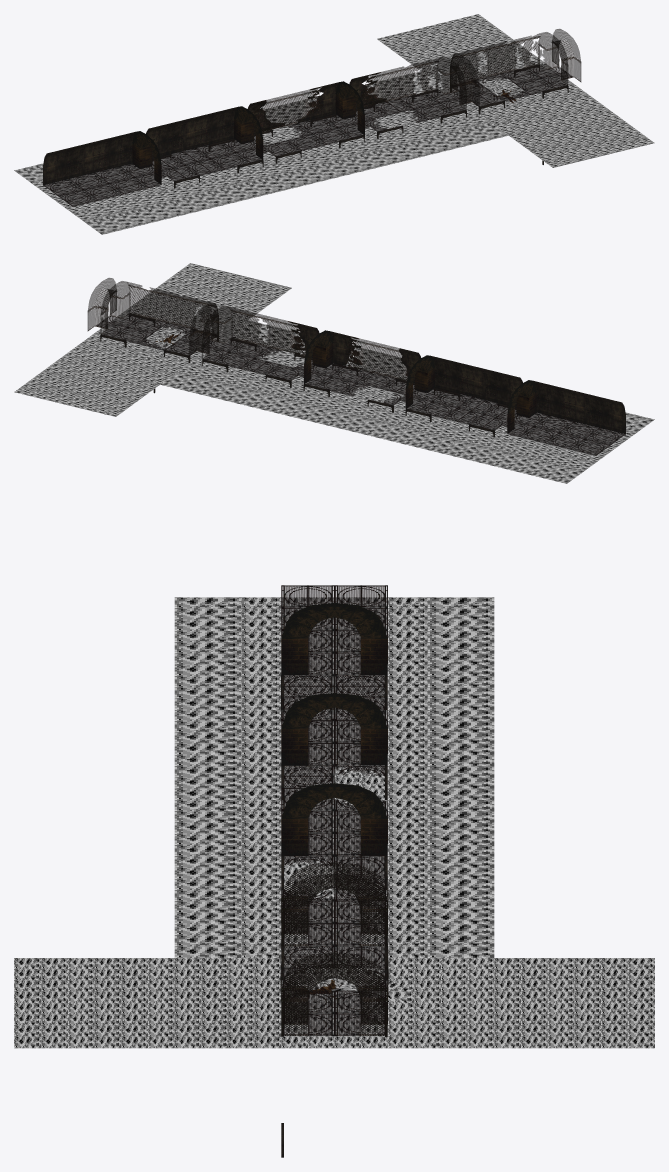
The model's file is DRU0100.glb.
3 views of the same model, one above another, from view 1: azimuth 30°, elevation 25°; view 2: azimuth 150°, elevation 25°; view 3: azimuth 270°, elevation 25° (orthographic). The views are drawn at different scales.
Parts seen in each view (by area): view 1: 02NAMI1_#6_m0, 02NAMI1__m0, 02NAMI1_#4_m0, 02NAMI1_#5_m0, 02NAMI1_#1_m0, 02NAMI1_#7_m0, 02NAMI1_#2_m0, 02NAMI3__m0, 02NAMI3_#1_m0, 02NAMI3_#4_m0, 02NAMI1_#3_m0, 02NAMI3_#3_m0 (+32 smaller); view 2: 02NAMI1_#6_m0, 02NAMI1_#4_m0, 02NAMI1__m0, 02NAMI1_#5_m0, 02NAMI1_#7_m0, 02NAMI1_#1_m0, 02NAMI1_#2_m0, 02NAMI3_#3_m0, 02NAMI3_#4_m0, 02NAMI3_#1_m0, 02NAMI1_#3_m0, 02NAMI3__m0 (+30 smaller); view 3: 02NAMI1_#6_m0, 02NAMI1_#7_m0, 02NAMI1_#2_m0, 02NAMI1_#1_m0, 02NAMI1_#4_m0, 02NAMI1_#5_m0, 02NAMI1__m0, 02NAMI1_#3_m0, 02NAMI3_#1_m0, 02NAMI3_#4_m0, 02NAMI3__m0, 02NAMI3_#3_m0 (+19 smaller).
Boxes of the visible parts, x1=… form: 02NAMI1_#6_m0: x1=372, y1=71, x2=508, y2=147; 02NAMI1__m0: x1=14, y1=163, x2=152, y2=234; 02NAMI1_#4_m0: x1=269, y1=96, x2=406, y2=172; 02NAMI1_#5_m0: x1=248, y1=108, x2=356, y2=185; 02NAMI1_#1_m0: x1=89, y1=164, x2=203, y2=222; 02NAMI1_#7_m0: x1=350, y1=84, x2=457, y2=160; 02NAMI1_#2_m0: x1=190, y1=140, x2=304, y2=197; 02NAMI3__m0: x1=495, y1=112, x2=603, y2=167; 02NAMI3_#1_m0: x1=546, y1=100, x2=654, y2=155; 02NAMI3_#4_m0: x1=428, y1=14, x2=536, y2=69; 02NAMI1_#3_m0: x1=147, y1=150, x2=254, y2=209; 02NAMI3_#3_m0: x1=377, y1=26, x2=485, y2=81; 02NAMI1_#6_m0: x1=160, y1=320, x2=296, y2=396; 02NAMI1_#4_m0: x1=262, y1=347, x2=399, y2=421; 02NAMI1__m0: x1=516, y1=412, x2=654, y2=483; 02NAMI1_#5_m0: x1=312, y1=357, x2=420, y2=433; 02NAMI1_#7_m0: x1=211, y1=333, x2=318, y2=409; 02NAMI1_#1_m0: x1=465, y1=413, x2=580, y2=471; 02NAMI1_#2_m0: x1=363, y1=389, x2=478, y2=446; 02NAMI3_#3_m0: x1=65, y1=361, x2=173, y2=416; 02NAMI3_#4_m0: x1=14, y1=349, x2=122, y2=404; 02NAMI3_#1_m0: x1=132, y1=263, x2=241, y2=318; 02NAMI1_#3_m0: x1=414, y1=399, x2=522, y2=458; 02NAMI3__m0: x1=183, y1=275, x2=291, y2=330; 02NAMI1_#6_m0: x1=174, y1=912, x2=494, y2=957; 02NAMI1_#7_m0: x1=174, y1=867, x2=494, y2=912; 02NAMI1_#2_m0: x1=174, y1=732, x2=494, y2=777; 02NAMI1_#1_m0: x1=174, y1=642, x2=494, y2=687; 02NAMI1_#4_m0: x1=174, y1=823, x2=494, y2=867; 02NAMI1_#5_m0: x1=174, y1=777, x2=494, y2=822; 02NAMI1__m0: x1=174, y1=597, x2=494, y2=642; 02NAMI1_#3_m0: x1=174, y1=687, x2=494, y2=732; 02NAMI3_#1_m0: x1=14, y1=1003, x2=228, y2=1048; 02NAMI3_#4_m0: x1=440, y1=1003, x2=654, y2=1048; 02NAMI3__m0: x1=14, y1=958, x2=228, y2=1002; 02NAMI3_#3_m0: x1=440, y1=958, x2=654, y2=1002.
Bounding box in the file's own units: 40.04 × 8.5 × 24.04.
15 materials, 15 textured.
